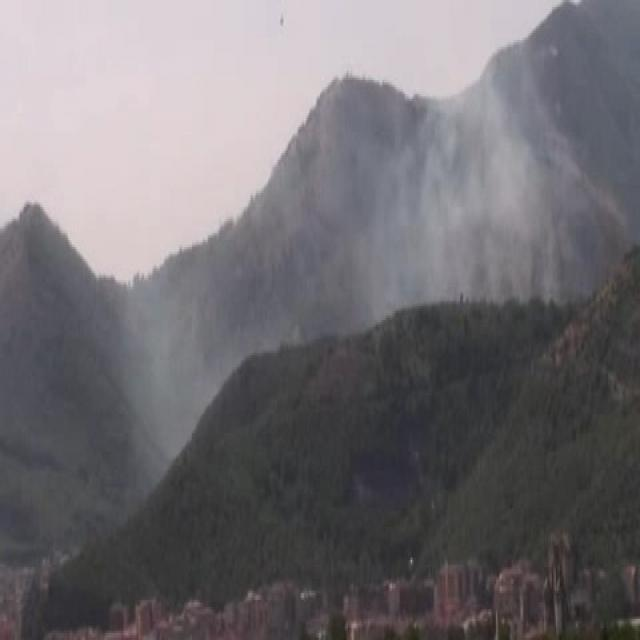smoke: (375, 78, 562, 308)
